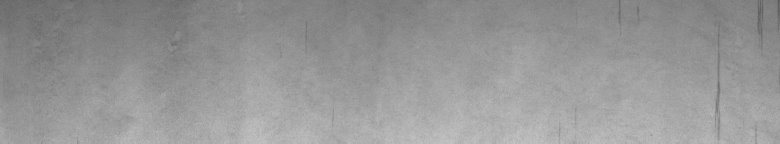ka: (711, 5, 768, 136)
